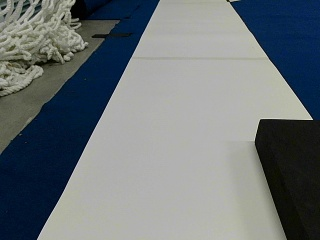block: (256, 115, 319, 238)
